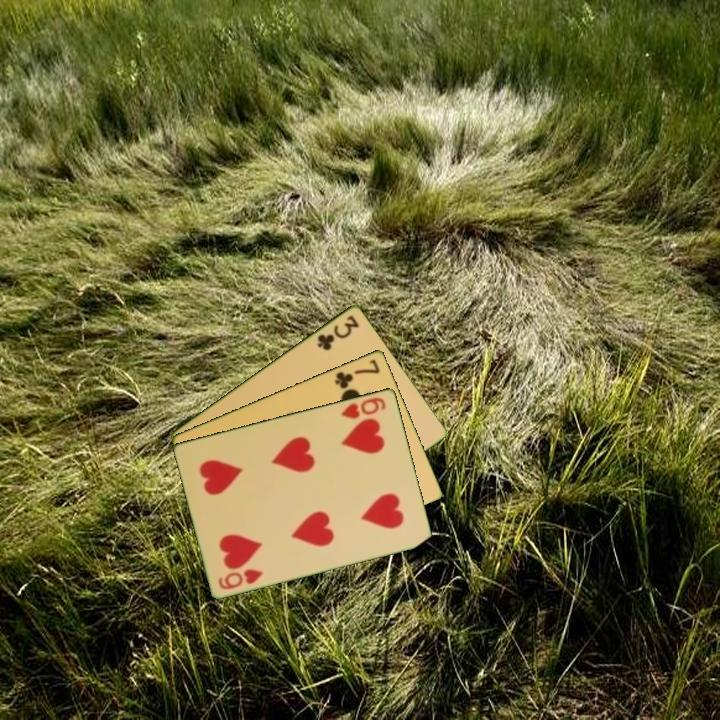3c: (313, 311, 362, 353)
6h: (337, 393, 389, 421), (215, 565, 266, 592)
7c: (331, 355, 383, 392)
